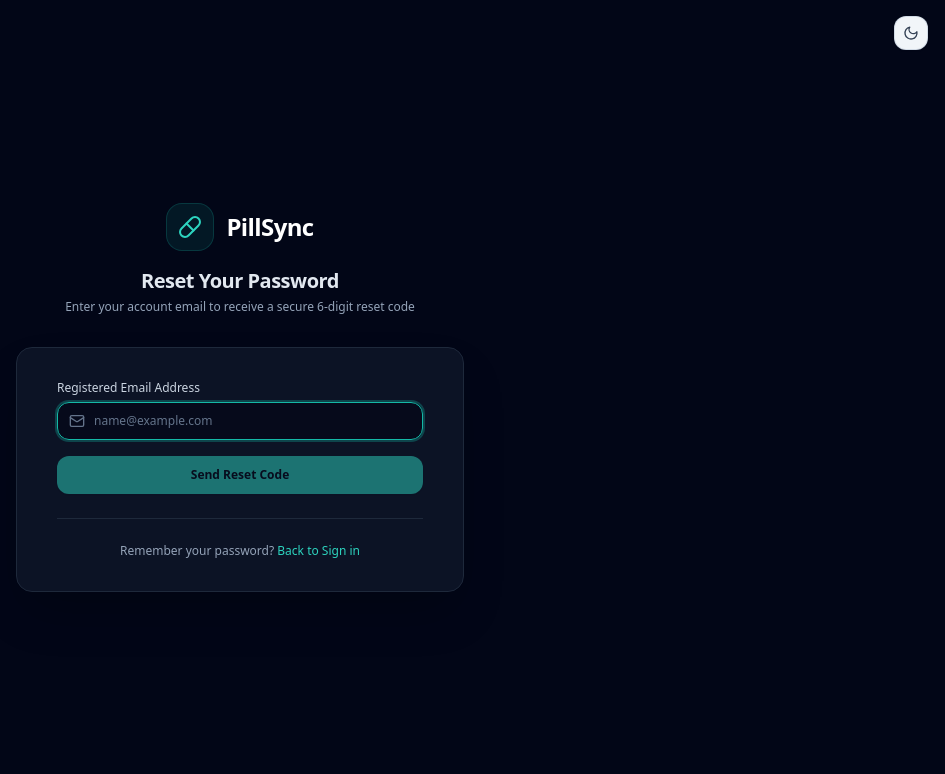
ForgotPassword Component - Email OTP Password Reset › submits email and progresses to OTP and new password step
Type "user@example.com" into the field labelled "Registered Email Address".
click(240, 420); type("user@example.com")  # box [57,402,423,440]
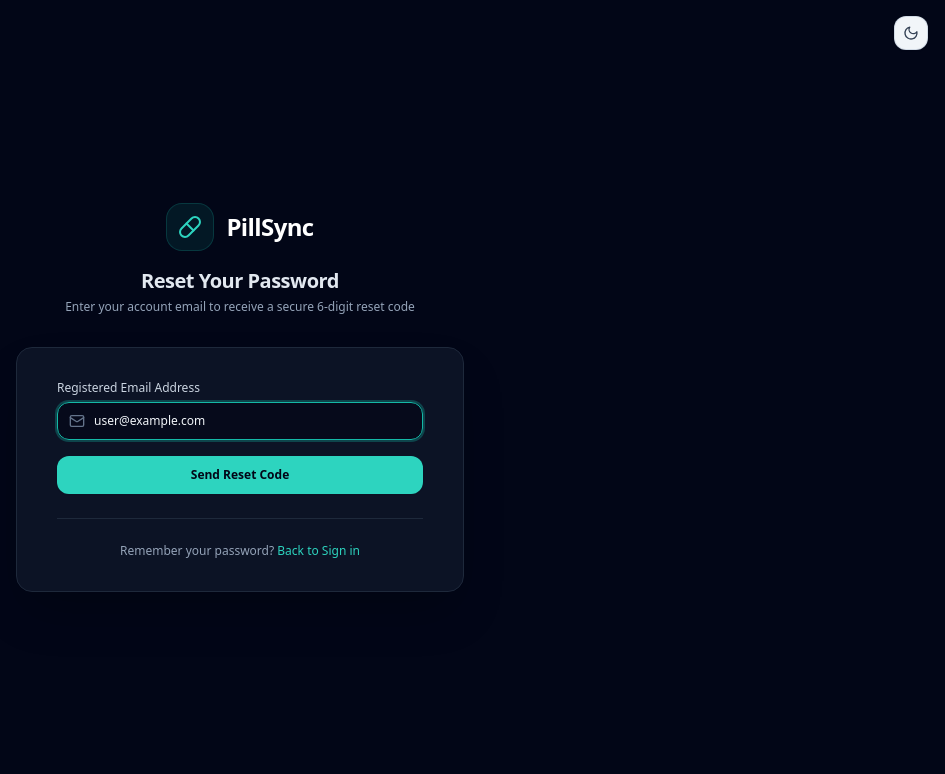
Click the button "Send Reset Code".
click(240, 474)  # box [57,456,423,494]
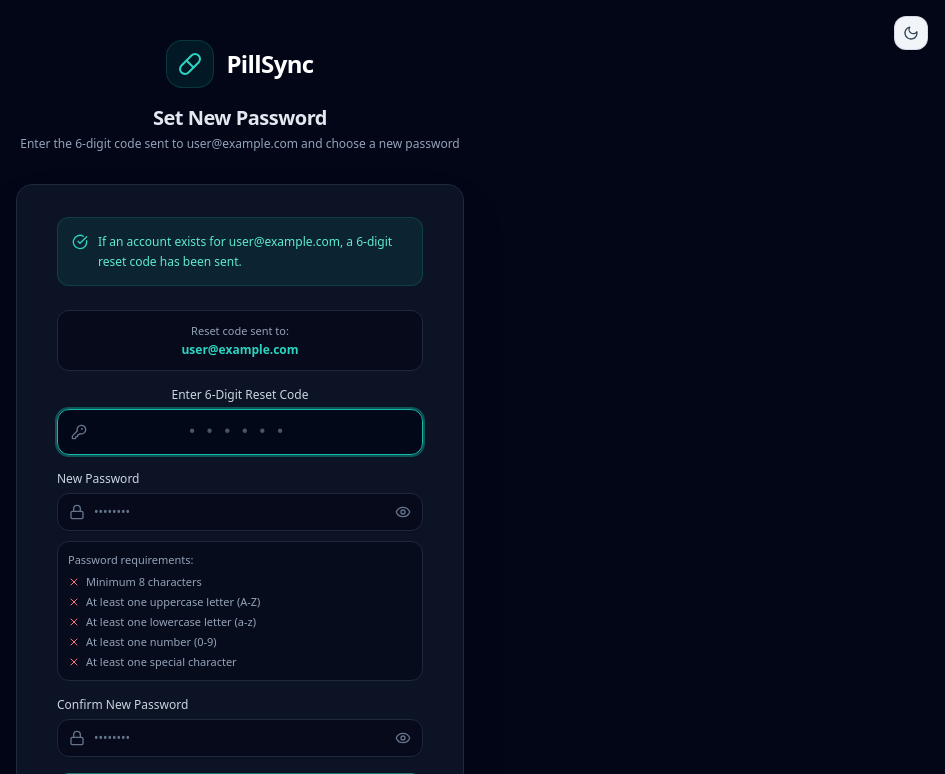
Check: the heading "Set New Password" is shown, box [153,104,327,131]
Check: the field labelled "Enter 6-Digit Reset Code" is shown, box [57,408,423,454]
Check: the password field labelled "New Password" is shown, box [57,492,423,530]
